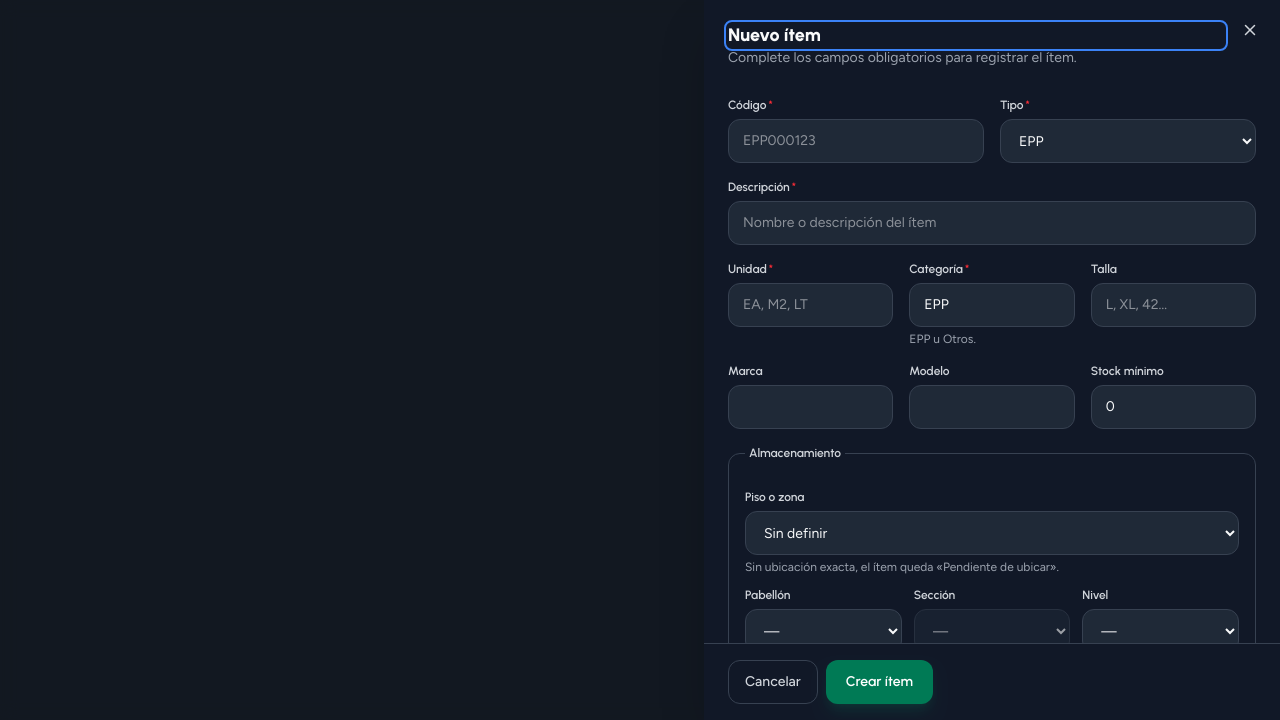
Scenario: ItemFormModal — alta › un stock mínimo «-1» se rechaza
Type "EPP000900" into the field labelled "Código" at (856, 141), box [728,119,984,163]
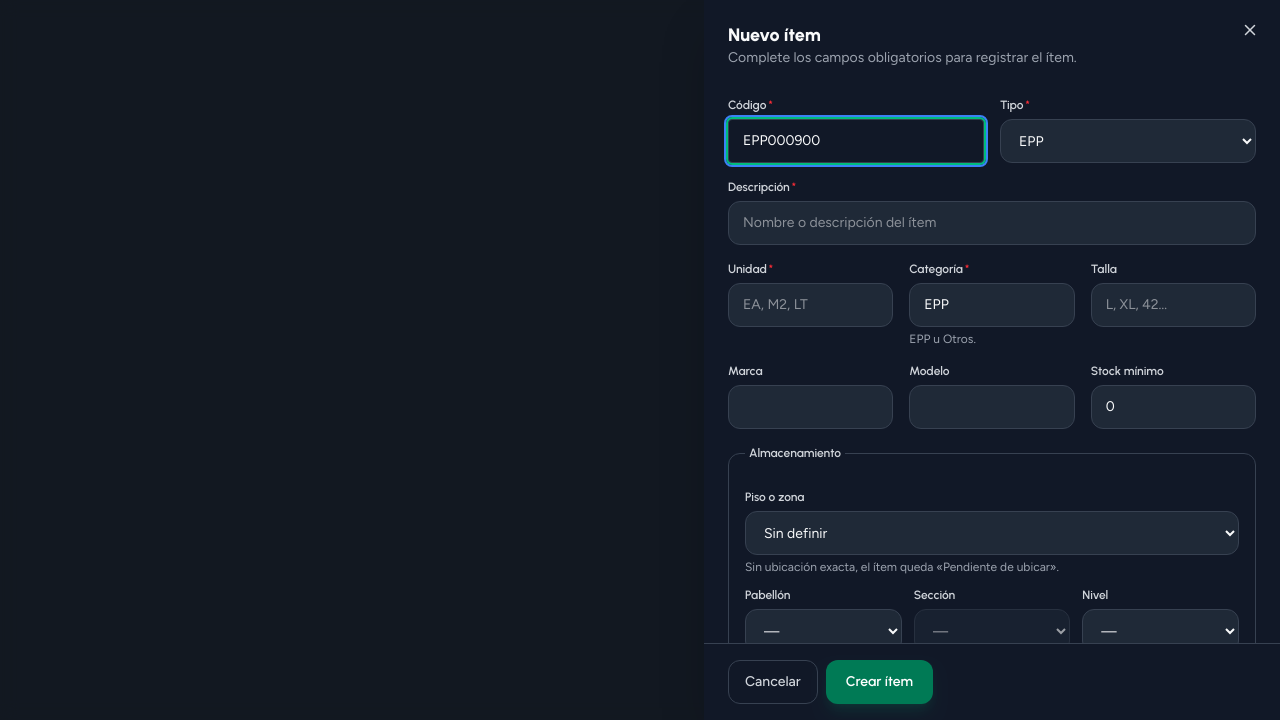
Type "Casco nuevo" into the field labelled "Descripción" at (992, 223), box [728,201,1256,245]
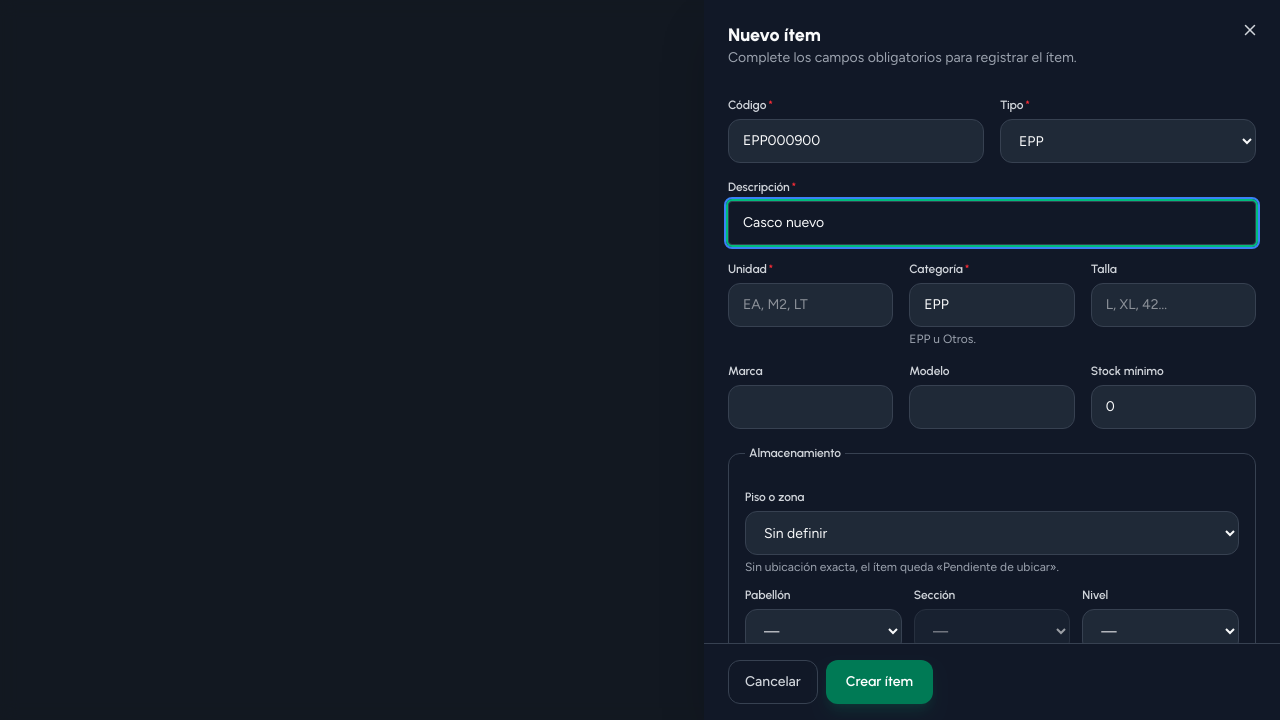
Type "EA" into the field labelled "Unidad" at (811, 305), box [728,283,893,327]
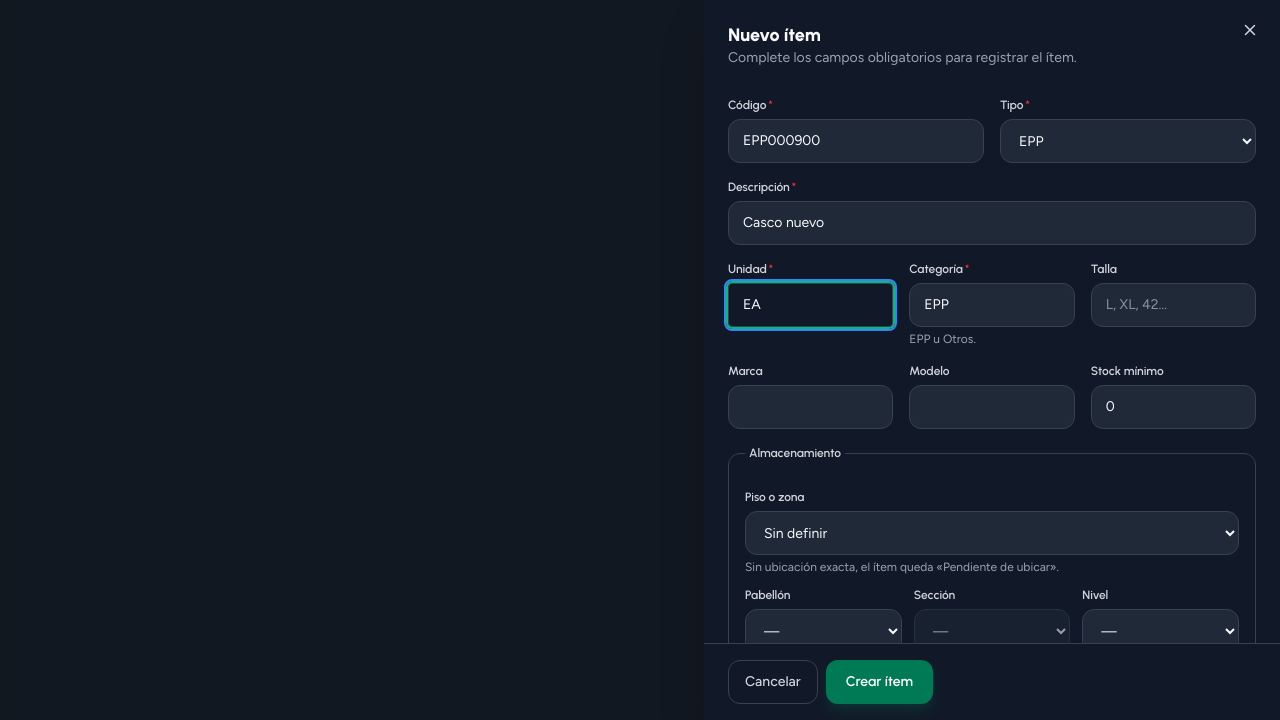
Replace the text in the number field labelled "Stock mínimo" with "-1" at (1173, 407), box [1091,385,1256,429]
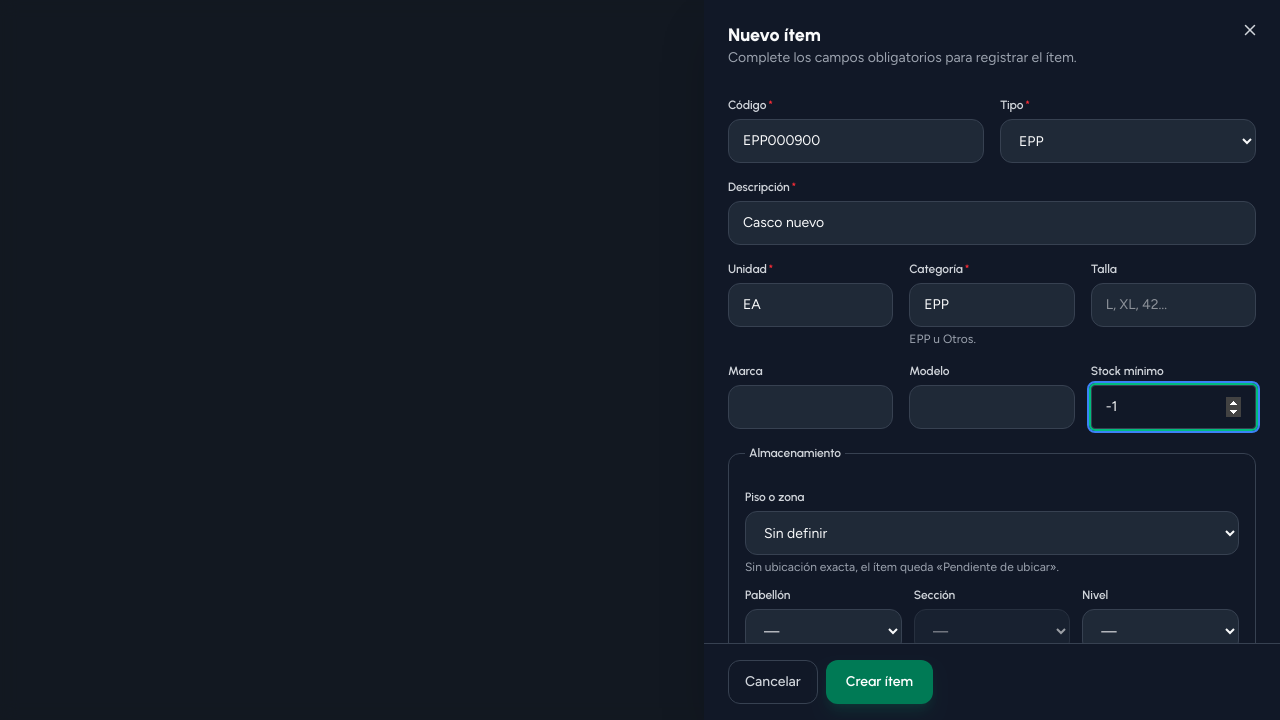
Click the button "Crear ítem" at (879, 682), box [826,660,933,704]
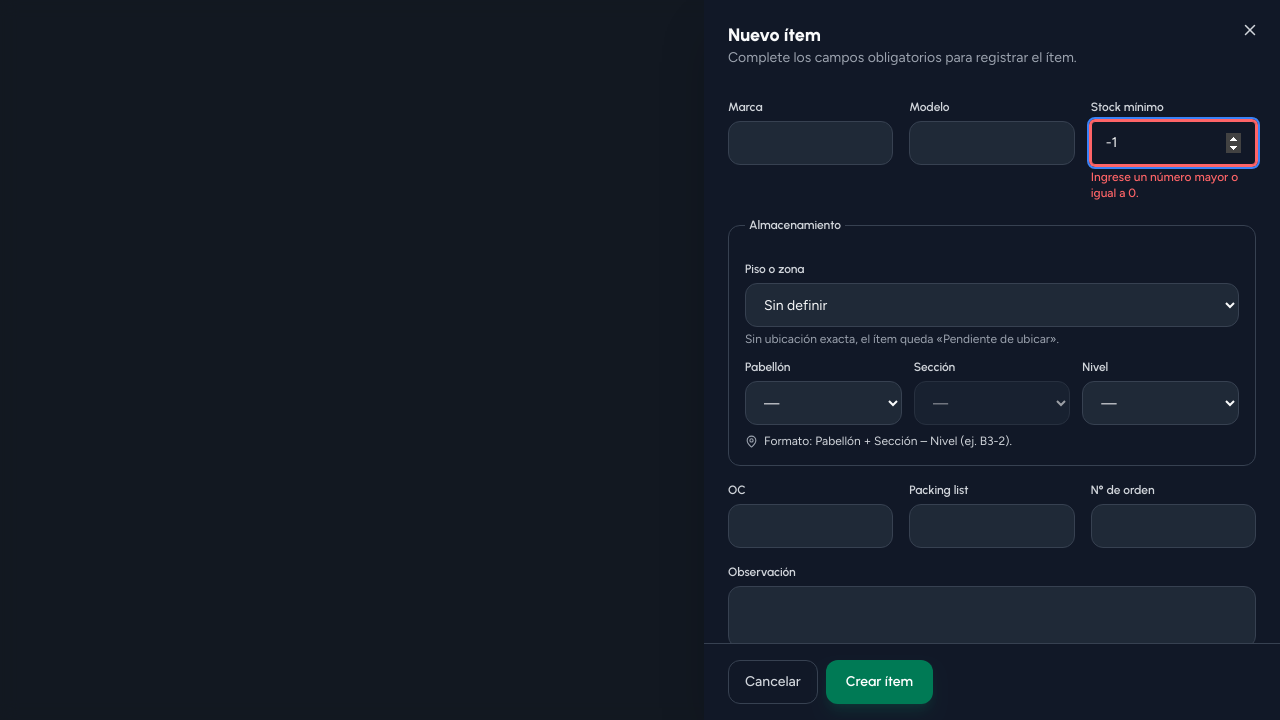
Check: the text "Ingrese un número mayor o igual a 0." is shown, box [1091,169,1256,201]
